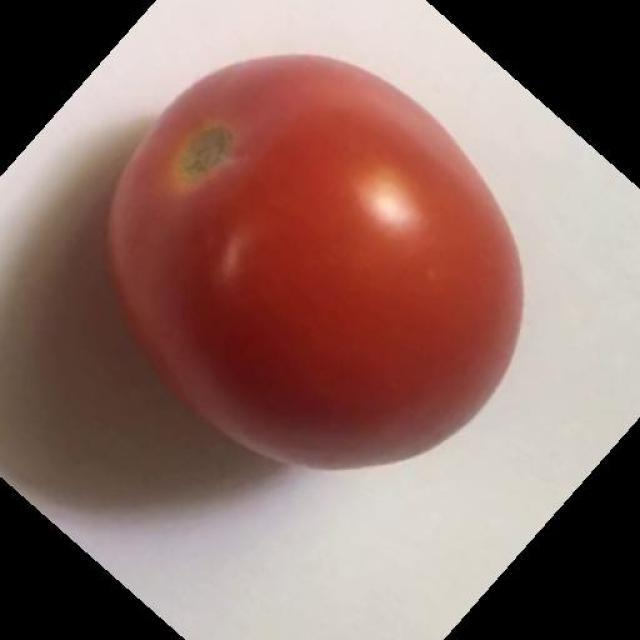Fresh Tomato: (80, 37, 546, 510)
